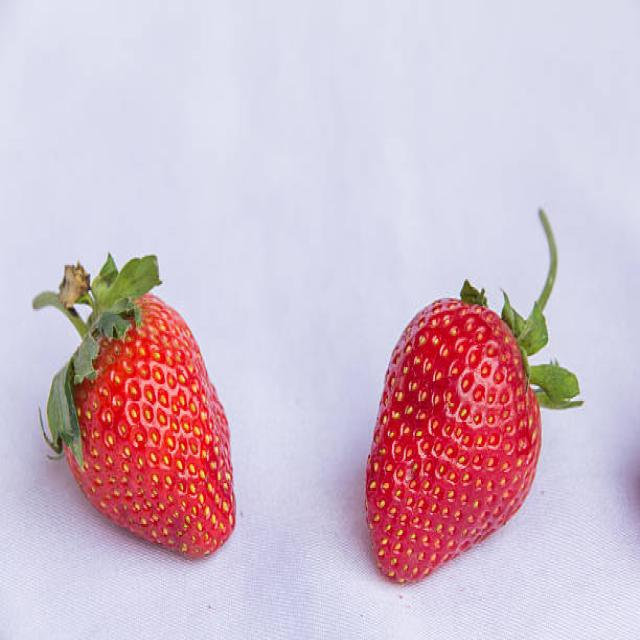Healthy Fruit: (366, 298, 542, 582), (60, 294, 236, 558)
